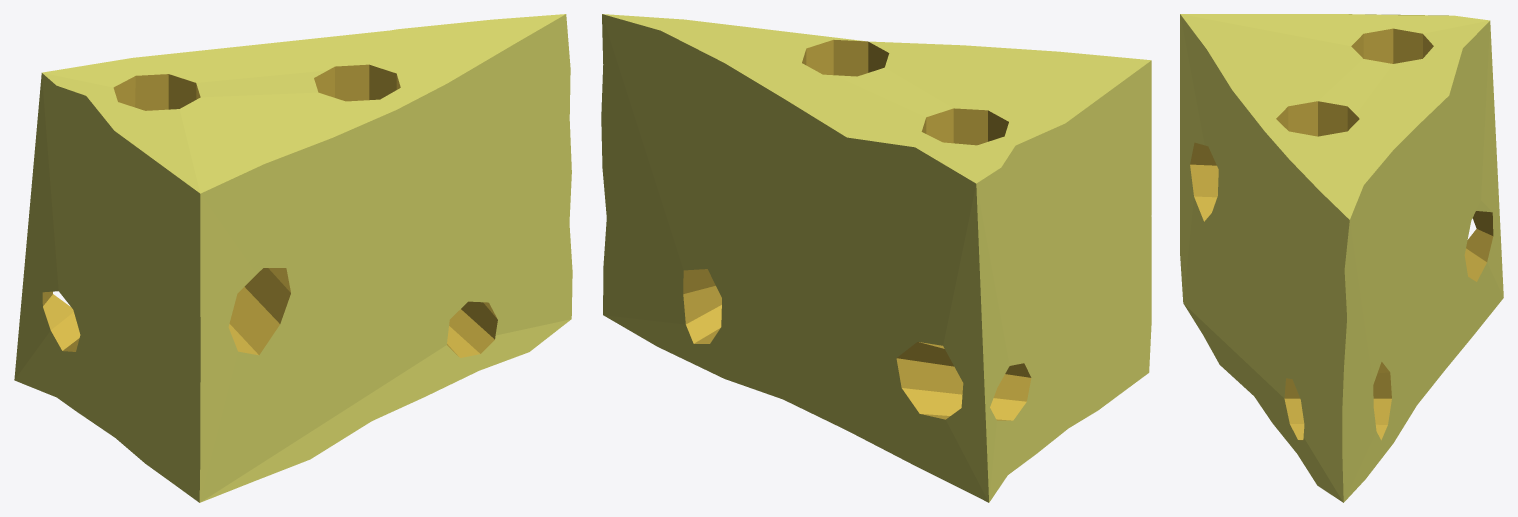
Rendered from Cheese.fbx.
The picture shows the model from 3 angles, left to right: view 1: azimuth 30°, elevation 25°; view 2: azimuth 150°, elevation 25°; view 3: azimuth 270°, elevation 25°; orthographic projection. The views are drawn at different scales.
Parts seen in each view (by area): view 1: Cube; view 2: Cube; view 3: Cube.
Boxes of the visible parts, x1,y1,x2,y2 form: Cube: (14, 14, 572, 502); Cube: (601, 14, 1151, 502); Cube: (1180, 14, 1503, 502).
Size of the model in its own units: 316 by 205 by 202.
